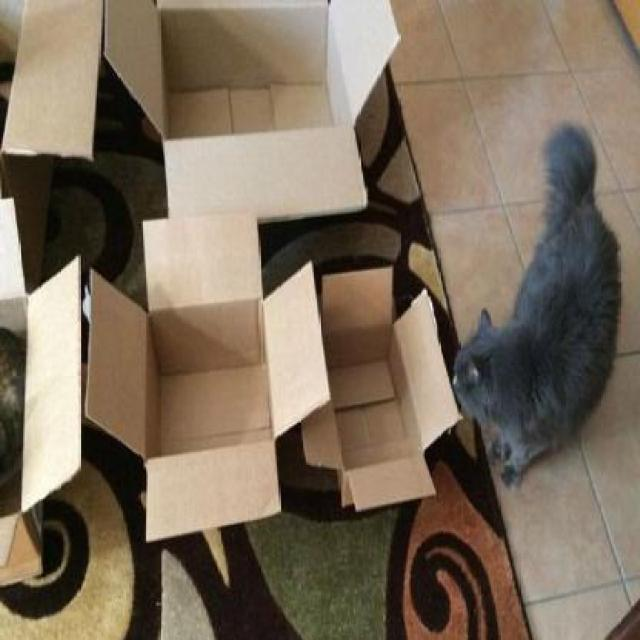box: (86, 210, 329, 568), (100, 0, 429, 230), (308, 260, 477, 553), (0, 192, 86, 629)
